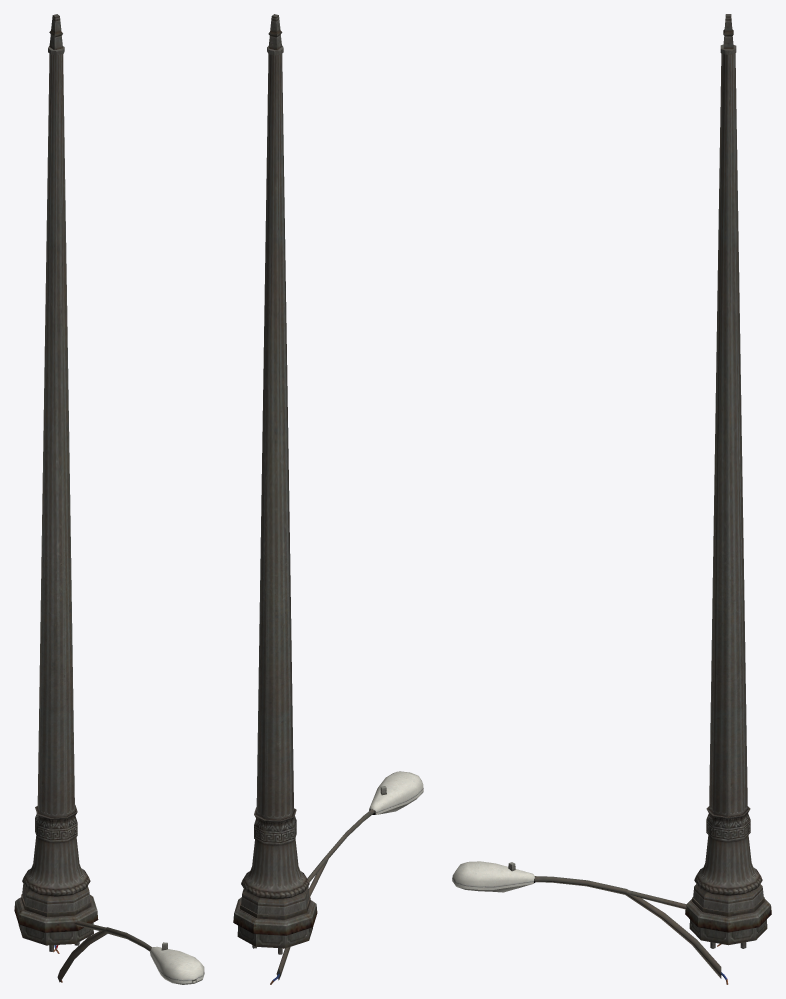
File: lamp.glb
3 views of the same model, side by side, from view 1: azimuth 30°, elevation 25°; view 2: azimuth 150°, elevation 25°; view 3: azimuth 270°, elevation 25° (orthographic).
Visible parts, largest first — view 1: g (×4); view 2: g (×4); view 3: g (×4).
Boxes of the visible parts, left/top/right/bottom form: g (×4): left=14, top=14, right=204, bottom=984; g (×4): left=233, top=14, right=423, bottom=984; g (×4): left=452, top=14, right=771, bottom=984.
Bounding box in the file's own units: 0.79 × 9.72 × 2.91.
Materials: 4 (4 with a texture image).
